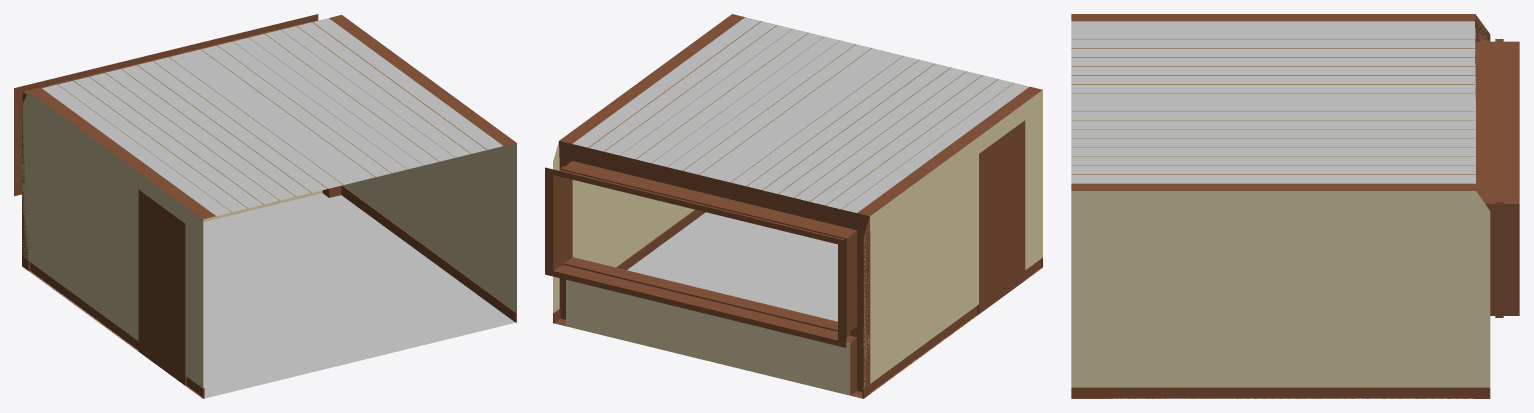
The model's file is JapanHouse.fbx.
3 views of the same model, side by side, from view 1: azimuth 30°, elevation 25°; view 2: azimuth 150°, elevation 25°; view 3: azimuth 270°, elevation 25° (orthographic). The views are drawn at different scales.
Parts seen in each view (by area): view 1: Plane.004; view 2: Plane.004; view 3: Plane.004.
Boxes of the visible parts, x1,y1,x2,y2 form: Plane.004: (14,14,516,398); Plane.004: (545,14,1042,398); Plane.004: (1071,14,1519,398).
Bounding box in the file's own units: 479 × 262 × 513.
